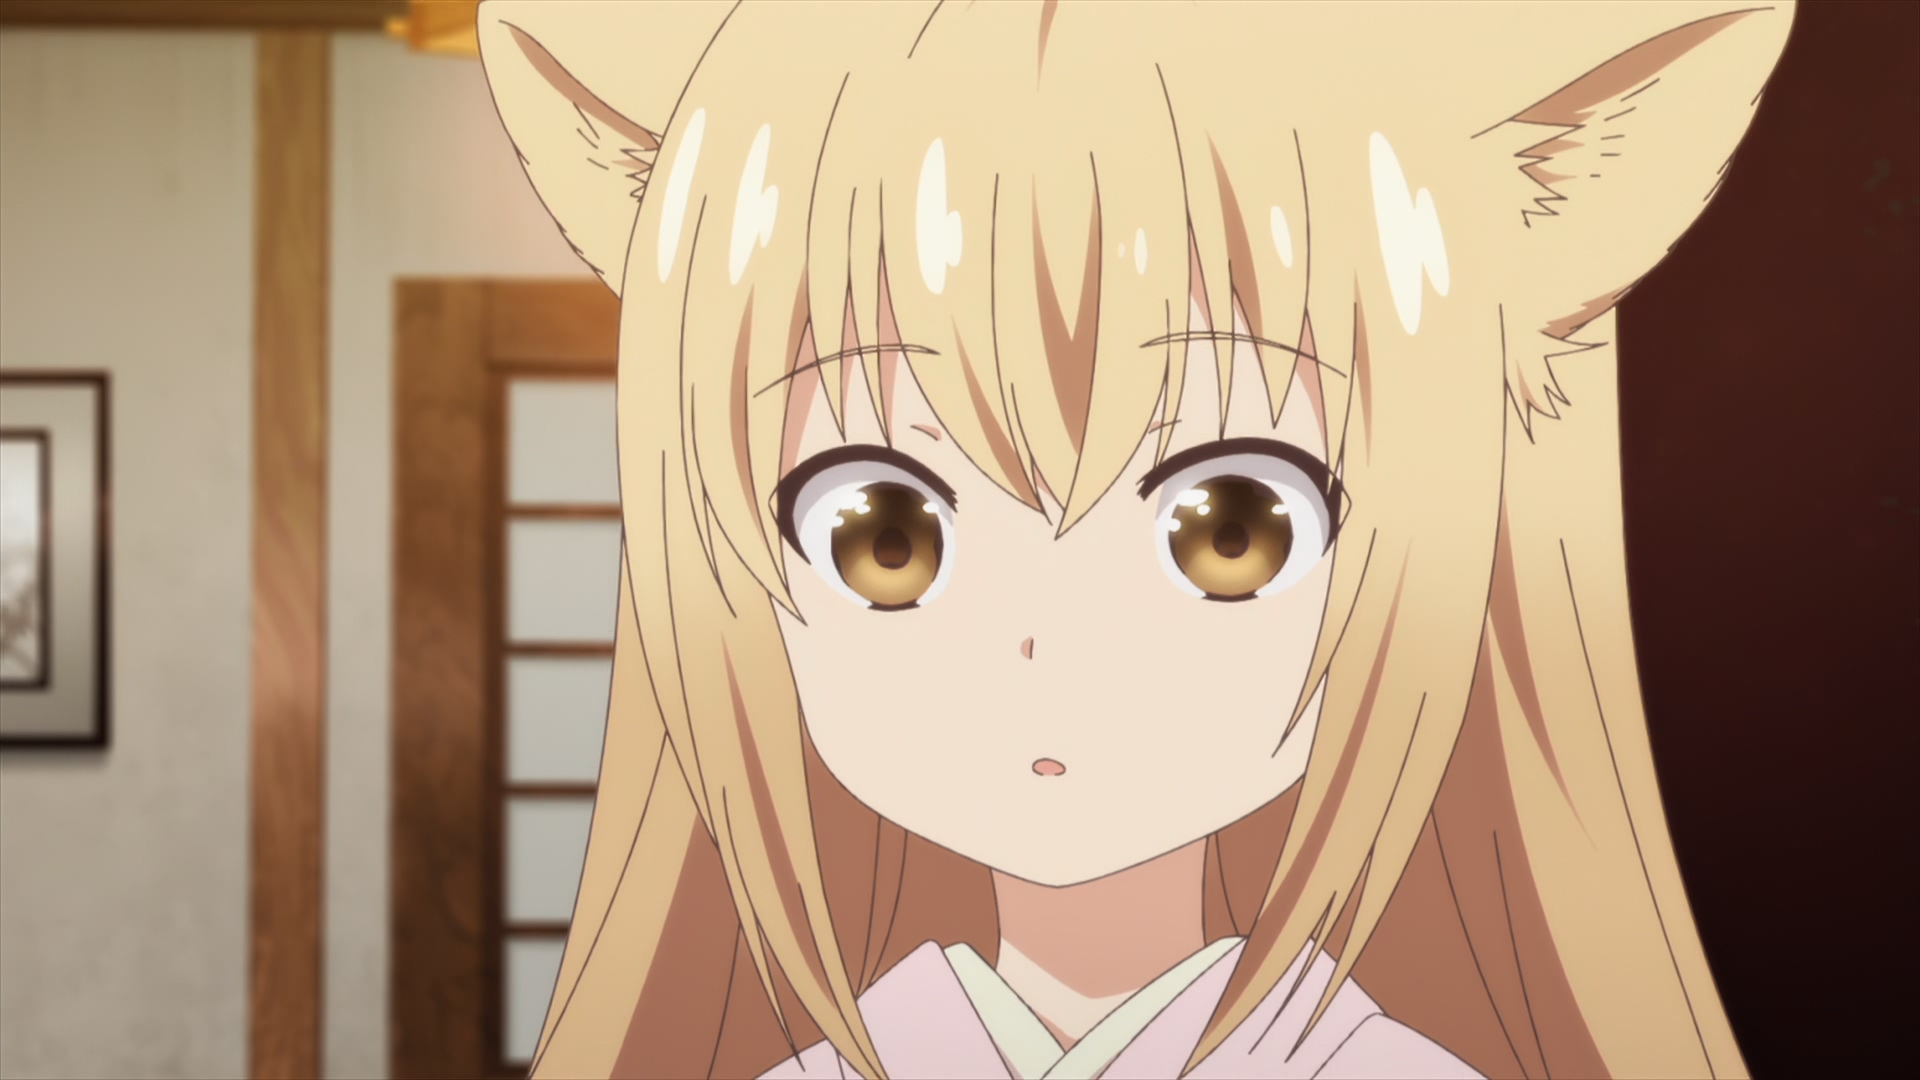柚: (473, 1, 1792, 1080)
